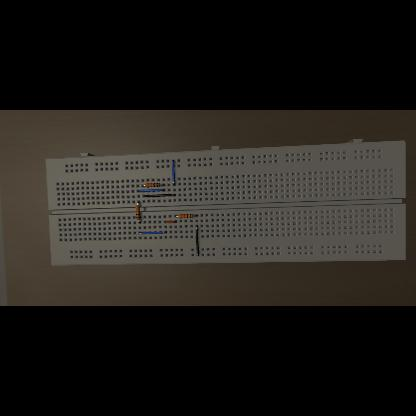breadboard: (46, 140, 406, 266)
resistor: (146, 183, 160, 187), (179, 214, 193, 218), (136, 206, 140, 220)
wire: (142, 194, 176, 198), (172, 160, 176, 186), (140, 232, 166, 235), (196, 226, 198, 256), (137, 190, 165, 192), (166, 221, 176, 223), (161, 184, 165, 186), (138, 202, 140, 206), (139, 220, 141, 224), (193, 216, 197, 217), (143, 186, 145, 186)
